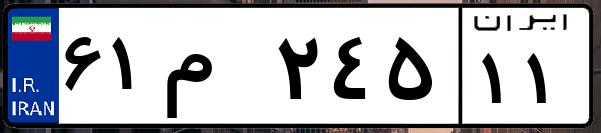1: (475, 38, 525, 113), (525, 38, 570, 115), (110, 28, 158, 98)
2: (270, 28, 330, 110)
4: (330, 28, 385, 110)
5: (385, 28, 445, 110)
6: (57, 26, 110, 100)
م: (158, 20, 270, 120)
